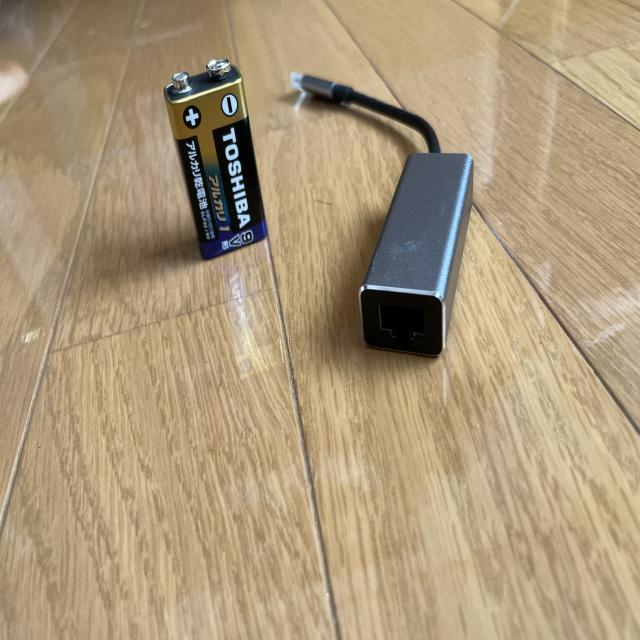9V: (164, 60, 269, 261)
